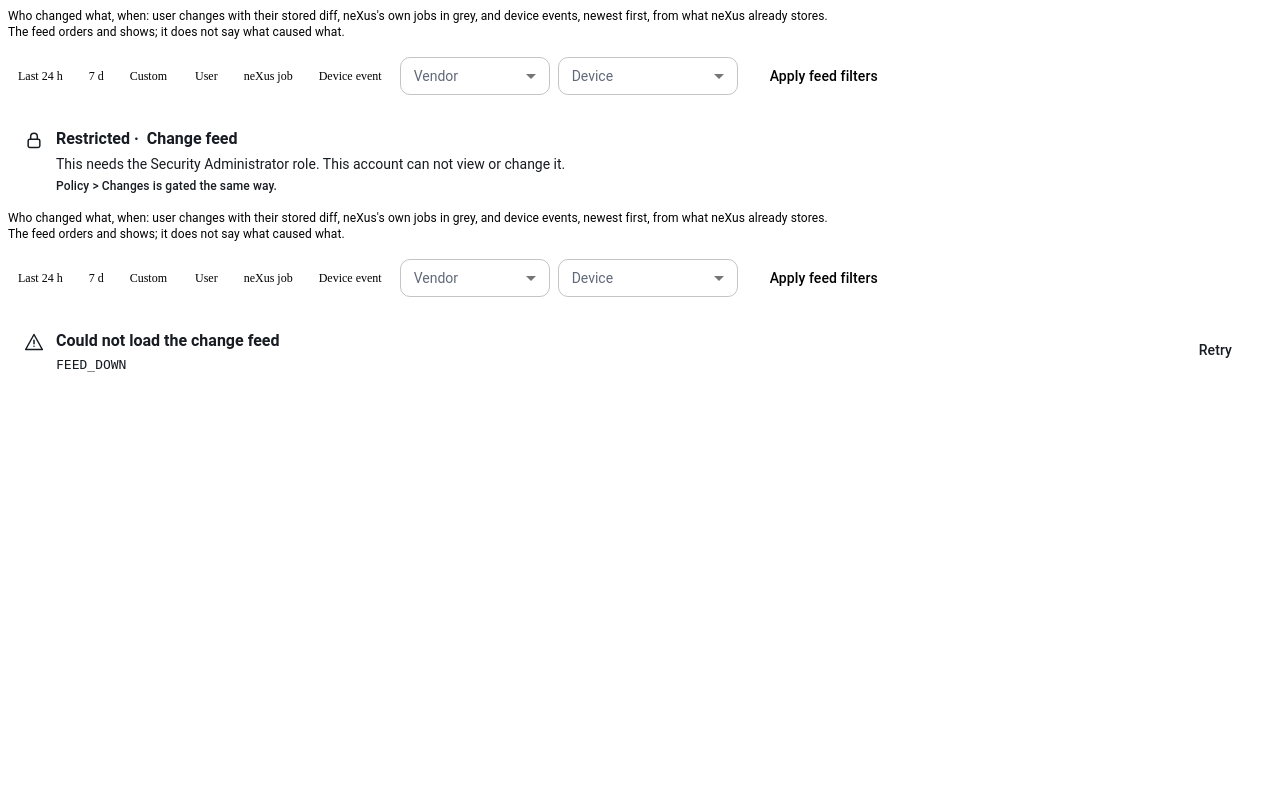
ChangeFeedPanel › says a refusal is a restriction and a failure is an error with Retry, both as status notices
Expected: the text "FEED_DOWN" is shown, [56,357,126,372]
Click the button "Retry": (1215, 350) [1175,330,1256,370]
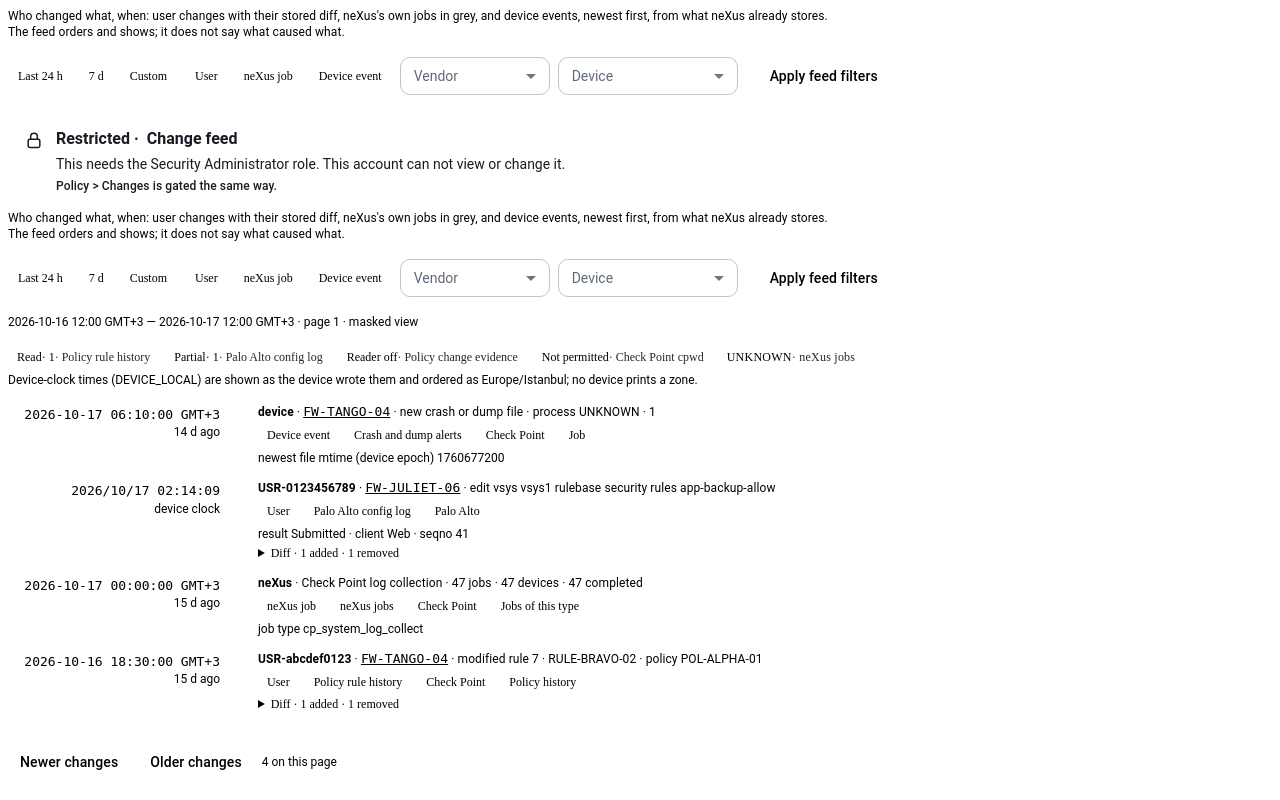
Result: the list named "Change timeline" is shown at [24,404,776,711]
